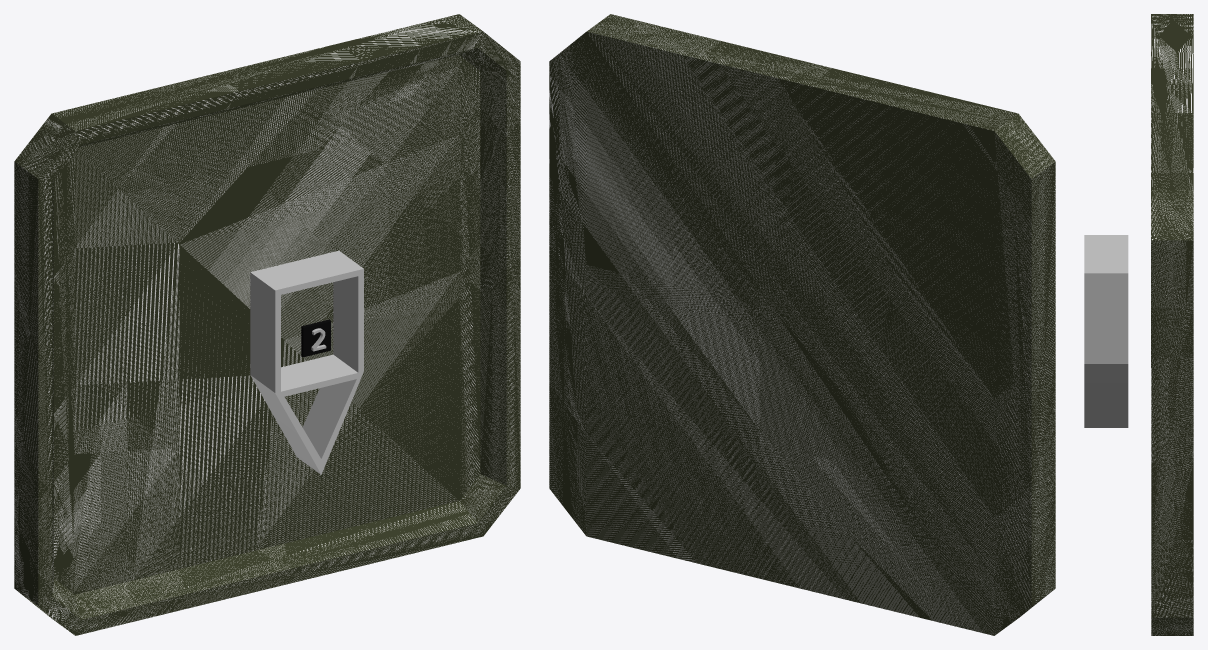
The picture shows the model from 3 angles, left to right: view 1: azimuth 30°, elevation 25°; view 2: azimuth 150°, elevation 25°; view 3: azimuth 270°, elevation 25°; orthographic projection. The views are drawn at different scales.
Parts seen in each view (by area): view 1: Button.001_ID13, Button_ID3, SM_CM_-_2_path1763-2.061; view 2: Button_ID3; view 3: Button_ID3, SM_CM_-_2_path1763-2.061.
Part boxes in pixels (x1,y1,x2,y2): Button.001_ID13: (52,47,506,619); Button_ID3: (14,14,520,635); SM_CM_-_2_path1763-2.061: (250,250,363,474); Button_ID3: (549,14,1055,635); Button_ID3: (1151,14,1193,635); SM_CM_-_2_path1763-2.061: (1084,235,1128,427).
Bounding box in the file's own units: 1 × 1 × 0.2225.
